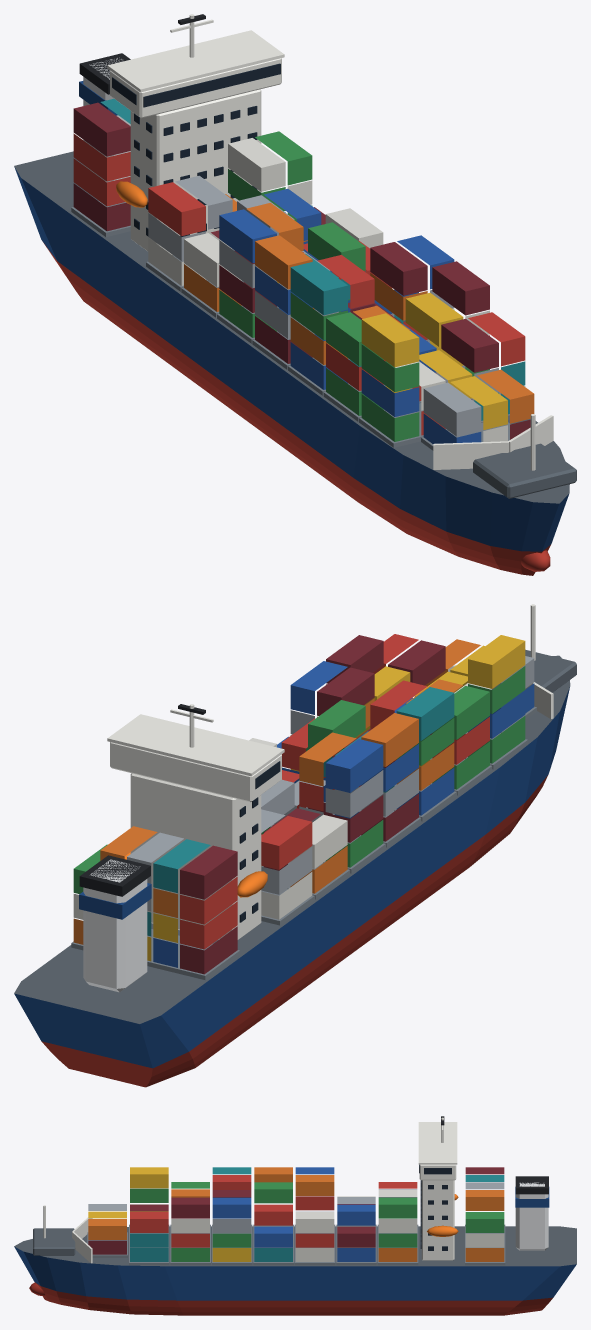
Rendered from container_ship.glb.
3 renders of one model, top to bottom at view 1: azimuth 30°, elevation 25°; view 2: azimuth 150°, elevation 25°; view 3: azimuth 270°, elevation 25°, orthographic. The views are drawn at different scales.
Parts seen in each view (by area): view 1: hull; view 2: hull; view 3: hull.
Boxes of the visible parts, x1,y1,x2,y2 form: hull: (14, 14, 576, 575); hull: (14, 604, 576, 1087); hull: (14, 1116, 576, 1315).
Bounding box in the file's own units: 2.06 × 4.25 × 11.95.
